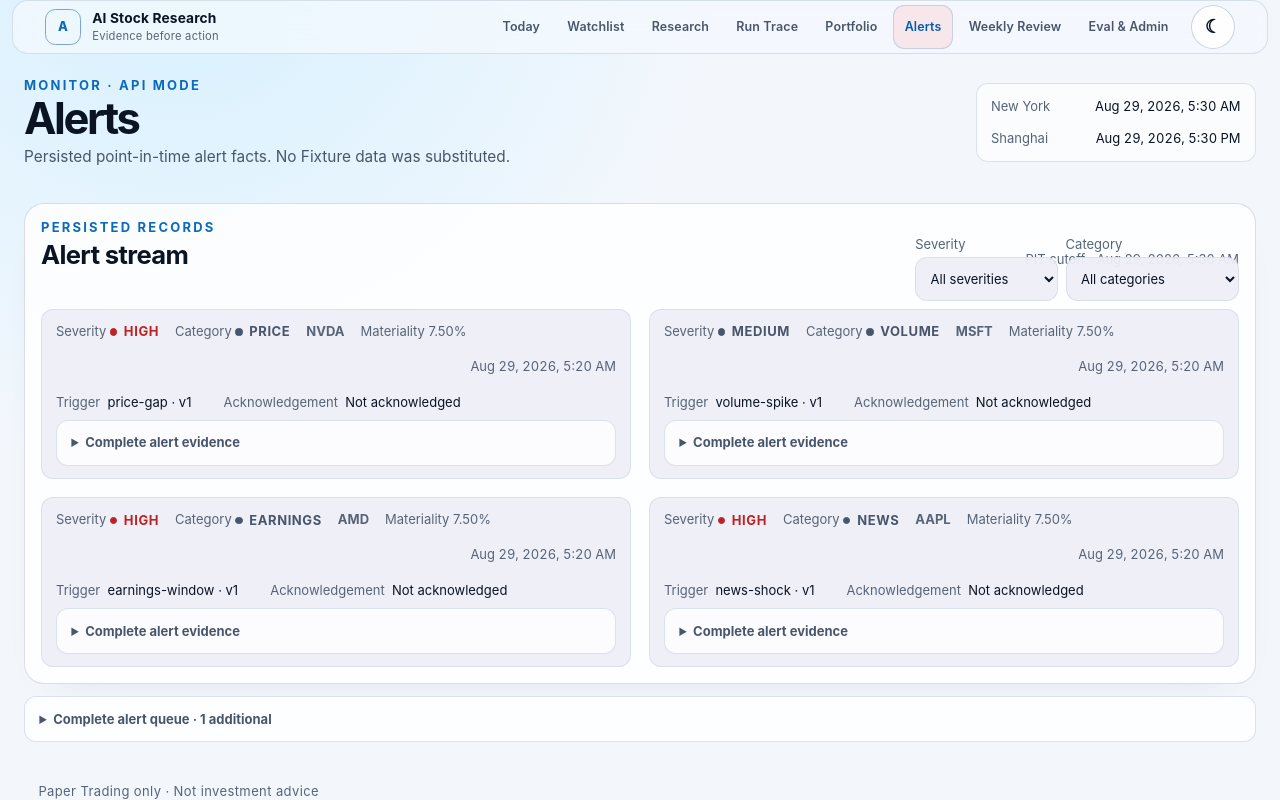
Test: API mode pages › filters the persisted alert queue by severity and explicit product category
Expected: the dropdown named "Filter by severity" is shown, [915, 256, 1058, 300]
Expected: the list named "Actionable alert queue" shows "NVDA", [306, 322, 344, 338]
Step 1. Select "VOLUME" in the dropdown named "Filter by category" → [1152, 278], box [1066, 256, 1239, 300]
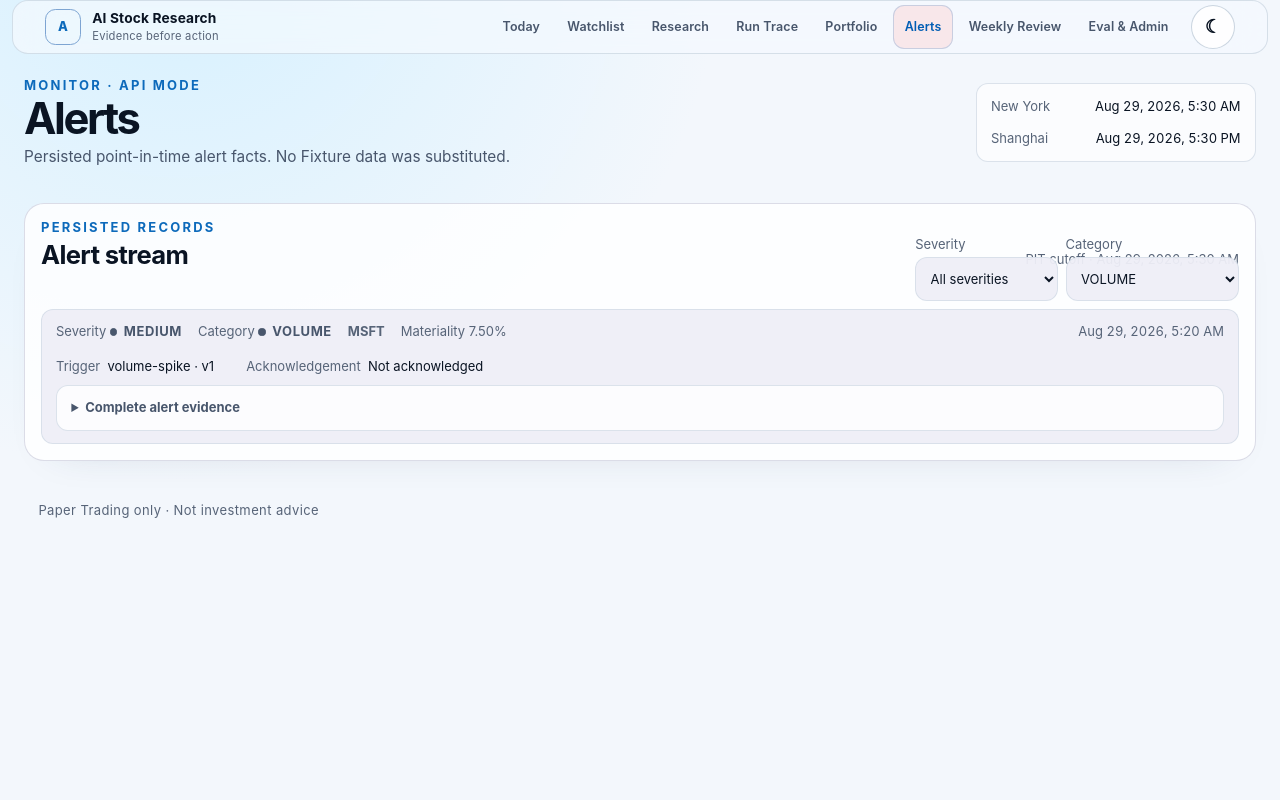
Expected: the link "MSFT" is shown, [348, 322, 385, 338]
Now the link "NVDA" is gone
